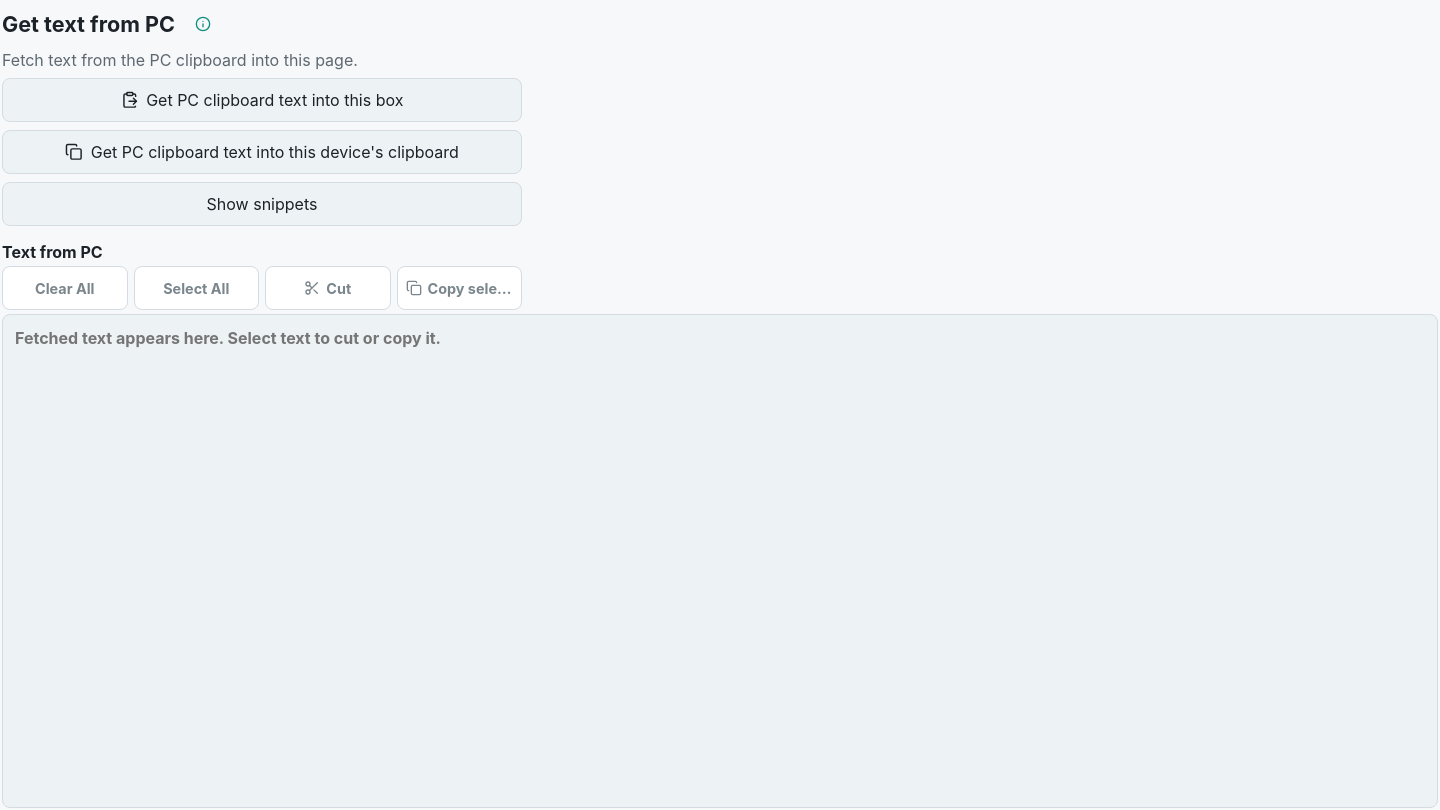
it: ClipboardReadMode › moves the guidance into the standard information dialog
Click the button named "About Get text from PC": (203, 24) left=181, top=2, right=225, bottom=46
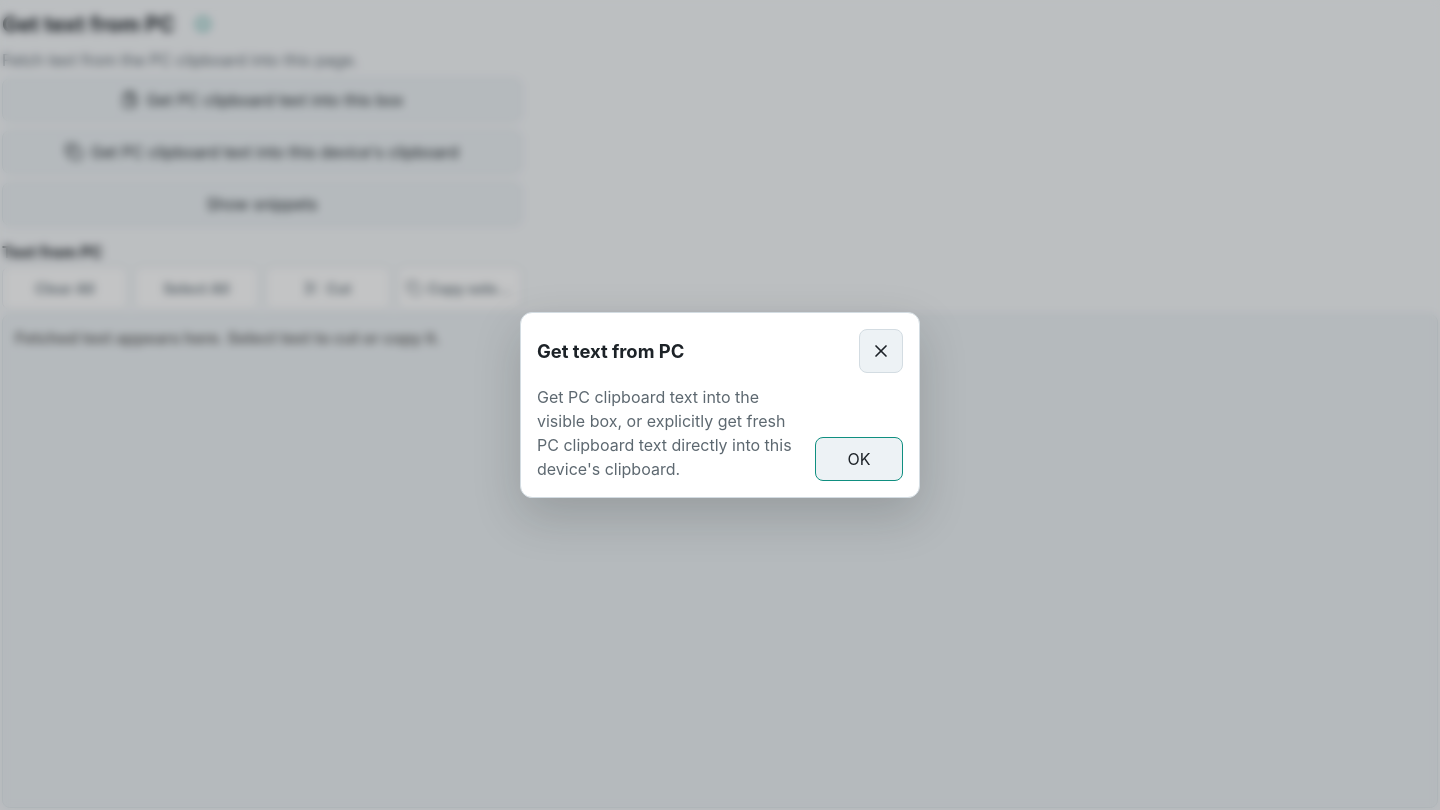
Check: the dialog shows "Get PC clipboard text into the visible box", box left=537, top=387, right=792, bottom=479
Check: the button "OK" is shown, box left=815, top=437, right=903, bottom=481
